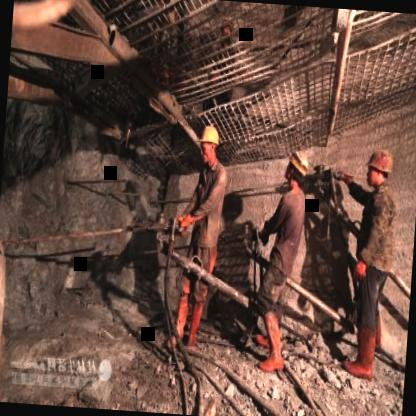helmet: (364, 148, 395, 192), (283, 147, 313, 191), (195, 124, 223, 168)
